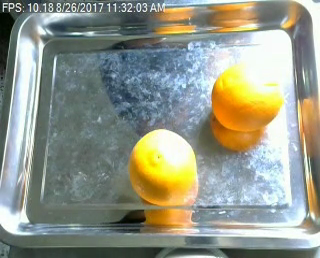Orange: (129, 128, 198, 204), (211, 62, 281, 132)
